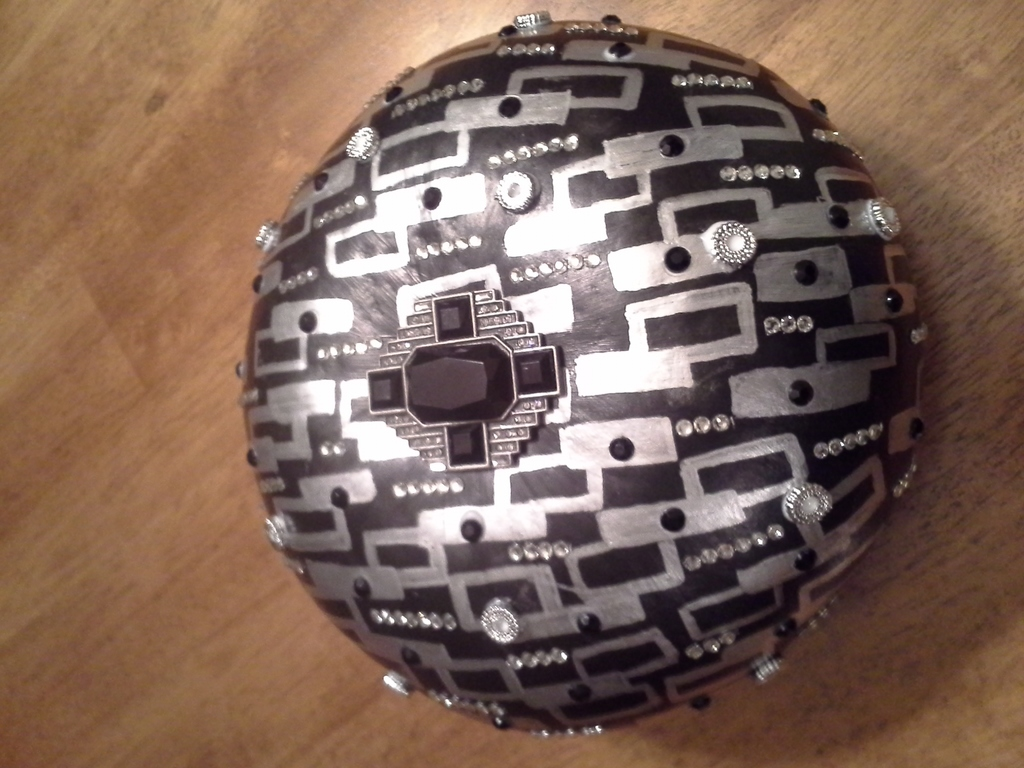Ball: (241, 7, 927, 735)
